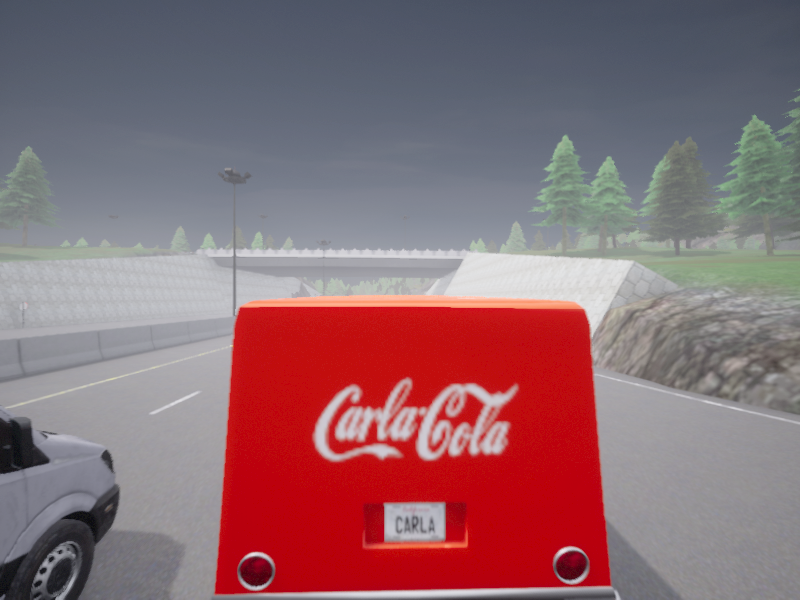vehicle: (210, 295, 621, 599), (0, 404, 119, 599)
